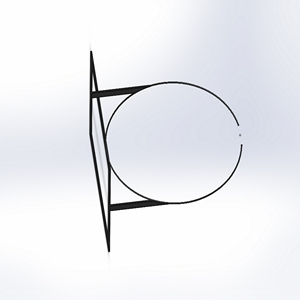circle: (84, 47, 241, 252)
